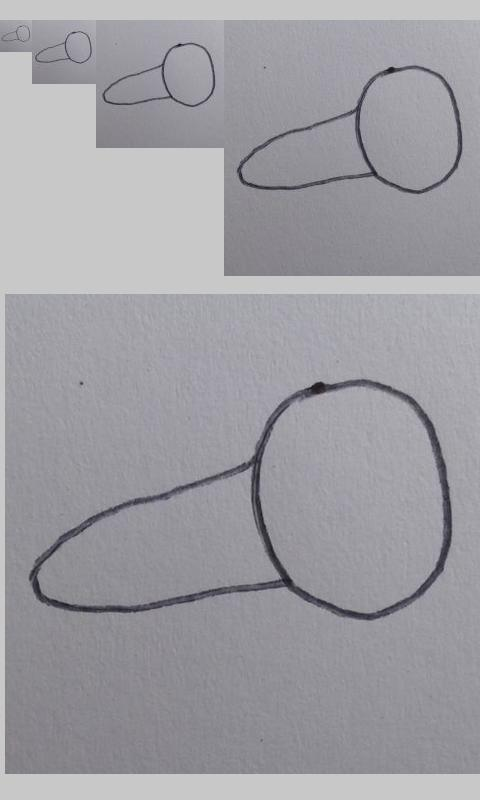switch: (29, 377, 455, 620), (238, 64, 464, 195), (102, 42, 216, 108), (34, 30, 93, 65), (1, 25, 31, 43)
